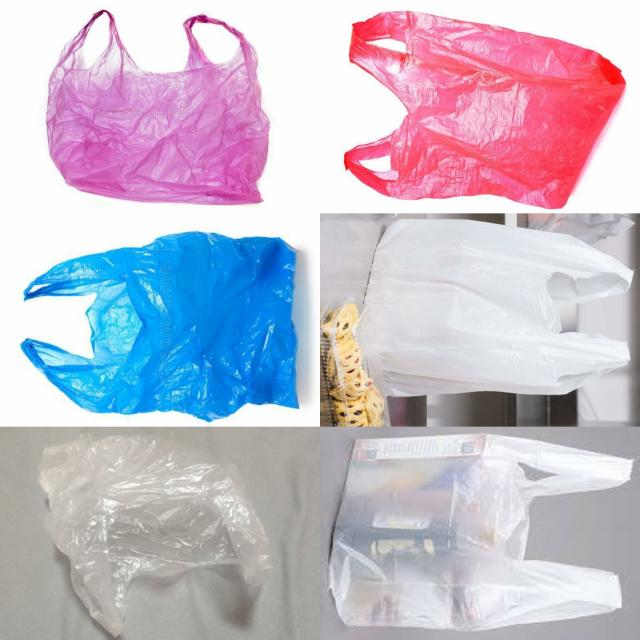Single-layer Plastic: (329, 434, 633, 630), (344, 11, 625, 209), (21, 231, 299, 421), (365, 219, 633, 396), (39, 435, 271, 636), (46, 10, 269, 204)
